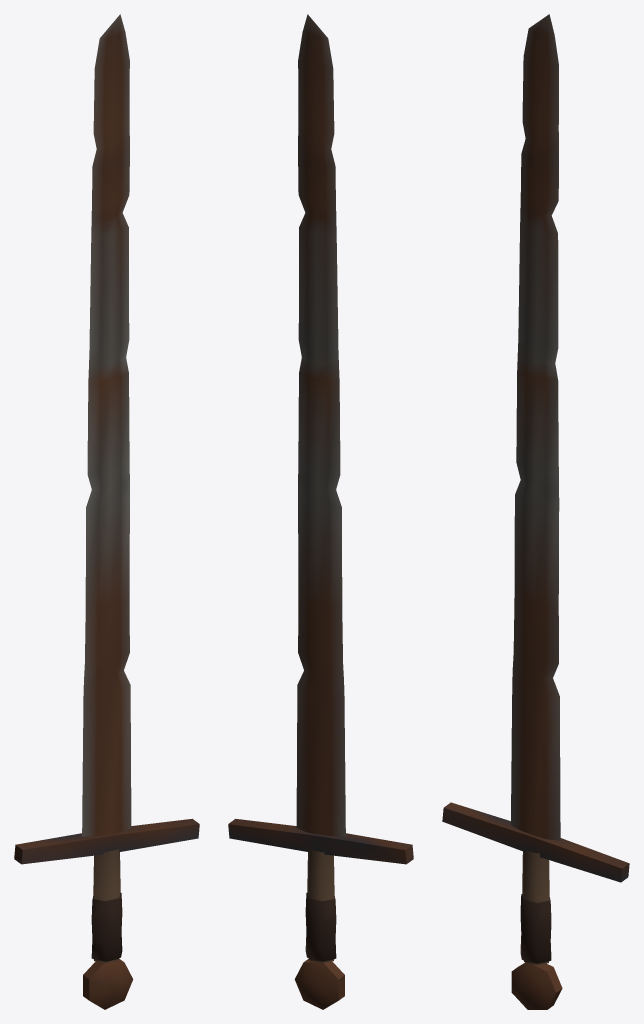
The model's file is sword_rusty.glb.
3 views of the same model, side by side, from view 1: azimuth 30°, elevation 25°; view 2: azimuth 150°, elevation 25°; view 3: azimuth 330°, elevation 25° (orthographic).
Parts seen in each view (by area): view 1: sword_rusty; view 2: sword_rusty; view 3: sword_rusty.
Part boxes in pixels (x1=…): sword_rusty: x1=14, y1=14, x2=199, y2=1009; sword_rusty: x1=228, y1=14, x2=413, y2=1009; sword_rusty: x1=442, y1=14, x2=629, y2=1009.
Size of the model in its own units: 0.1732 by 0.918 by 0.0215.
